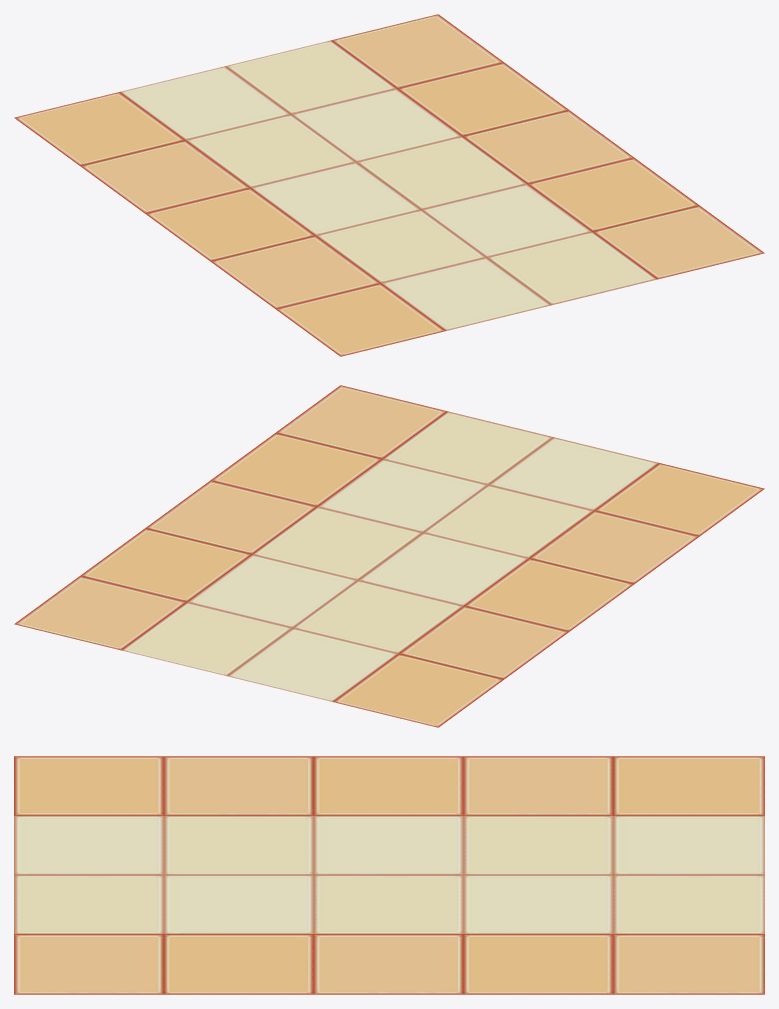
The model's file is my_abydosclassroom_01_field.glb.
3 renders of one model, top to bottom at view 1: azimuth 30°, elevation 25°; view 2: azimuth 150°, elevation 25°; view 3: azimuth 270°, elevation 25°, orthographic. The views are drawn at different scales.
Parts seen in each view (by area): view 1: my_abydosclassroom_01_field; view 2: my_abydosclassroom_01_field; view 3: my_abydosclassroom_01_field.
Boxes of the visible parts, <box> form: my_abydosclassroom_01_field: <box>14,14,764,356</box>; my_abydosclassroom_01_field: <box>14,385,764,727</box>; my_abydosclassroom_01_field: <box>14,756,764,994</box>.
Size of the model in its own units: 0.018 by 3.73e-11 by 0.024.
1 material, 1 textured.
